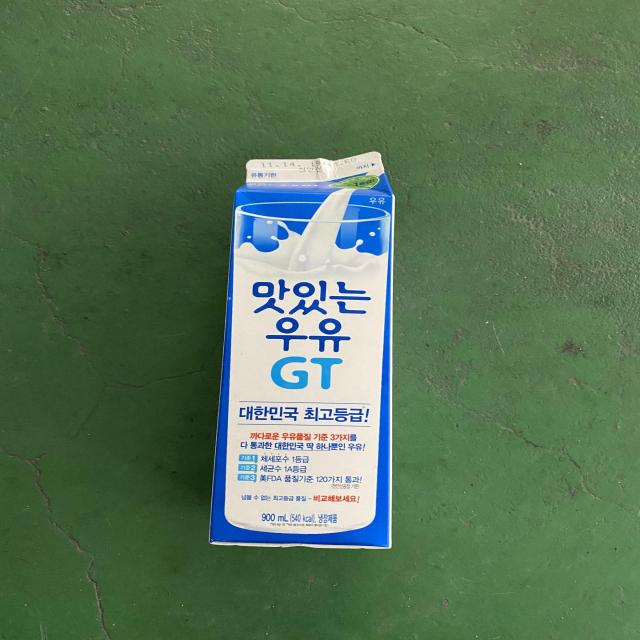paperpack: (209, 152, 394, 549)
